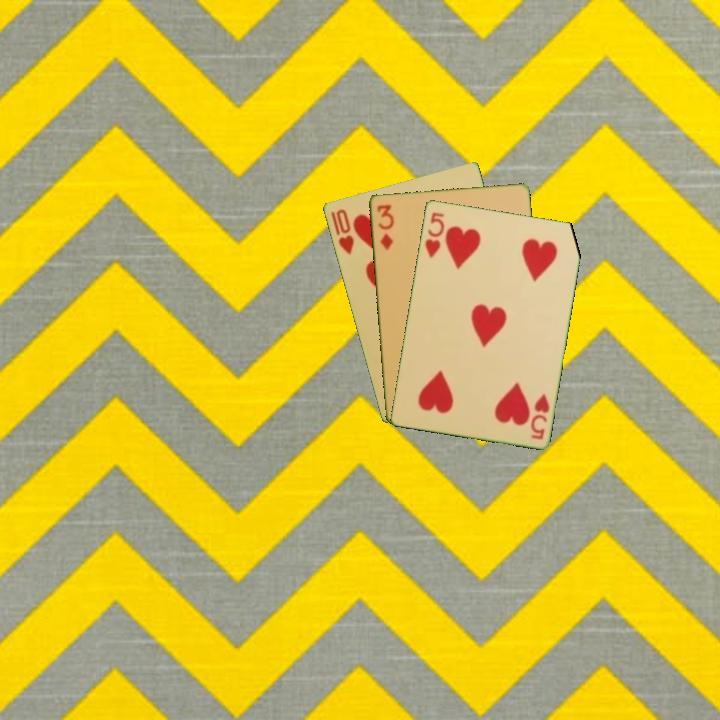10h: (332, 205, 357, 257)
3d: (373, 201, 396, 253)
5h: (421, 208, 447, 261), (527, 390, 552, 442)
